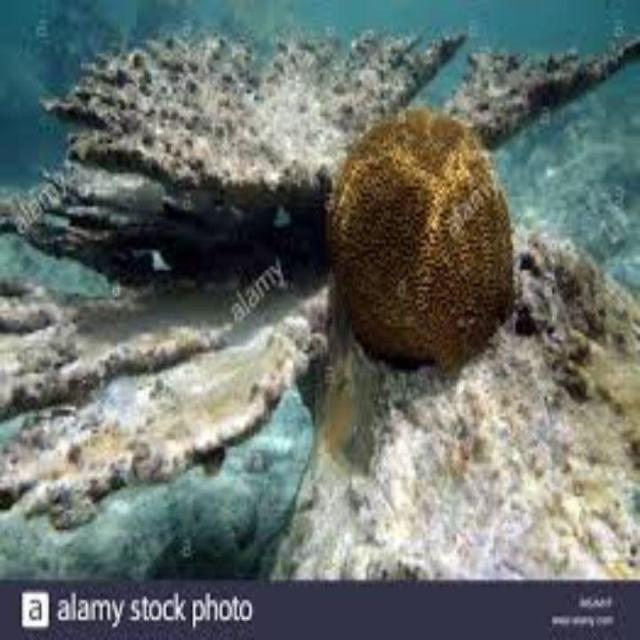Dead Coral: (63, 28, 300, 491)
Healthy Coral: (319, 110, 531, 387)
